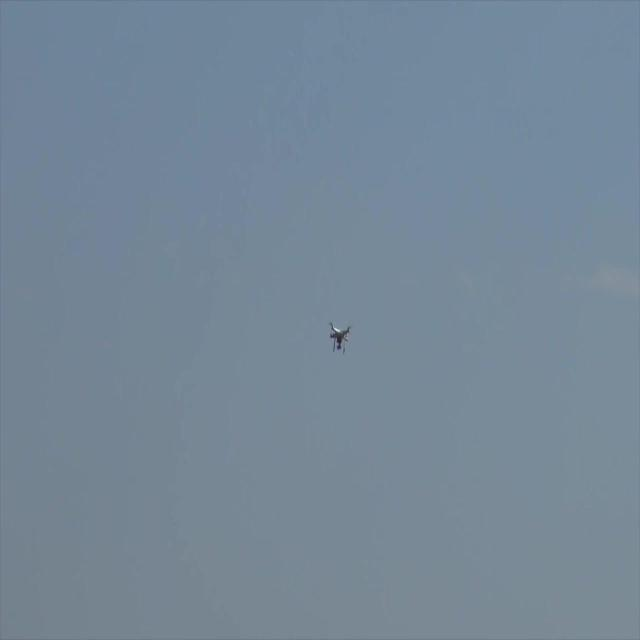drone: (327, 320, 353, 359)
